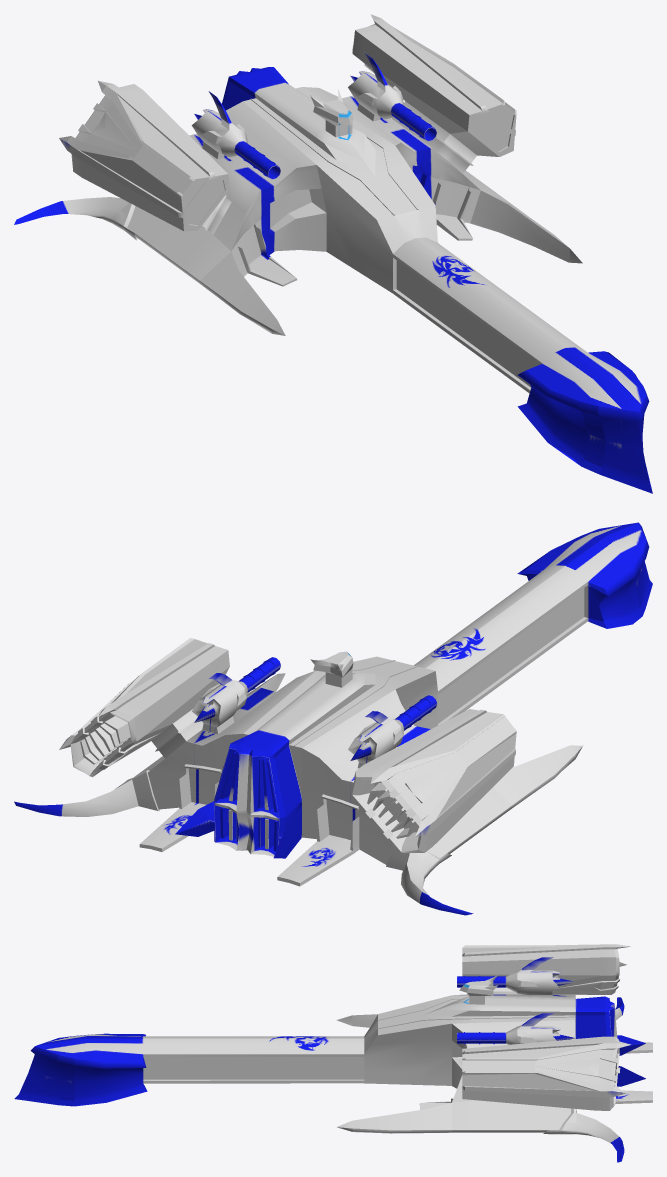
Rendered from Dreadnaught.obj.
3 renders of one model, top to bottom at view 1: azimuth 30°, elevation 25°; view 2: azimuth 150°, elevation 25°; view 3: azimuth 270°, elevation 25°, orthographic. The views are drawn at different scales.
Parts seen in each view (by area): view 1: Dreadnaught:polySurface68; view 2: Dreadnaught:polySurface68; view 3: Dreadnaught:polySurface68.
Boxes of the visible parts, x1,y1,x2,y2 form: Dreadnaught:polySurface68: (14,14,652,493); Dreadnaught:polySurface68: (14,522,652,915); Dreadnaught:polySurface68: (14,944,652,1162).
Size of the model in its own units: 109 by 37.35 by 178.
